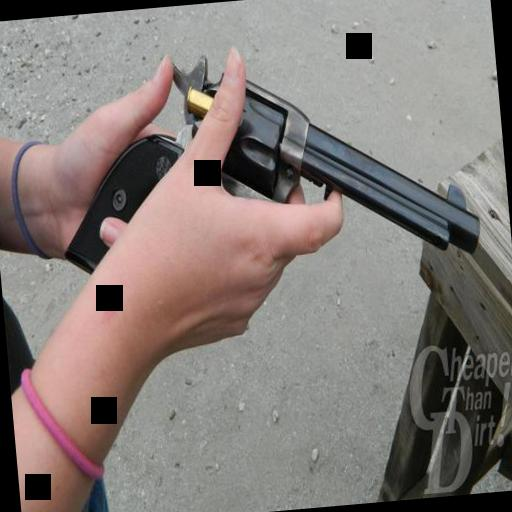Handgun: (44, 30, 480, 291)
